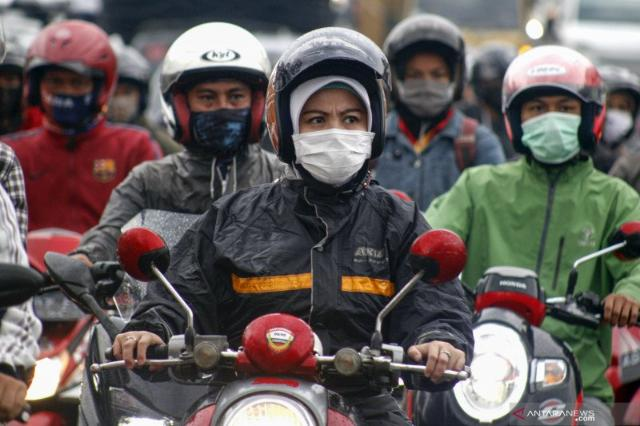helm: (264, 28, 391, 193), (157, 19, 274, 153), (496, 41, 608, 167), (23, 17, 119, 131), (381, 12, 472, 125)
motor: (88, 223, 473, 426), (407, 220, 640, 426)
